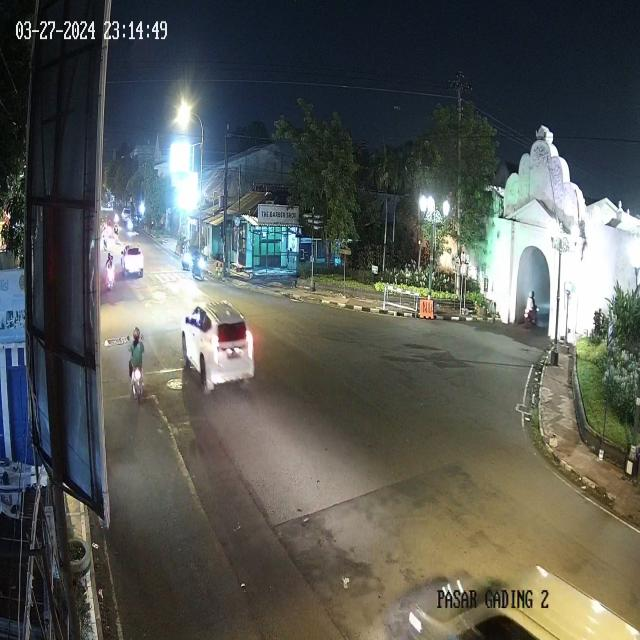car: (364, 551, 640, 640), (183, 300, 255, 396), (120, 242, 144, 278)
motorcycle: (128, 326, 147, 405), (193, 249, 207, 283), (104, 252, 116, 291), (526, 286, 536, 327), (180, 241, 190, 272)
